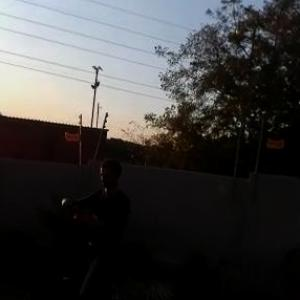follow: (52, 153, 138, 299)
